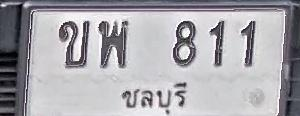1: (209, 20, 225, 68), (240, 20, 256, 67)
8: (172, 20, 196, 67)
A02: (58, 20, 90, 68)
A30: (97, 19, 128, 68)
CBI: (117, 79, 188, 115)
